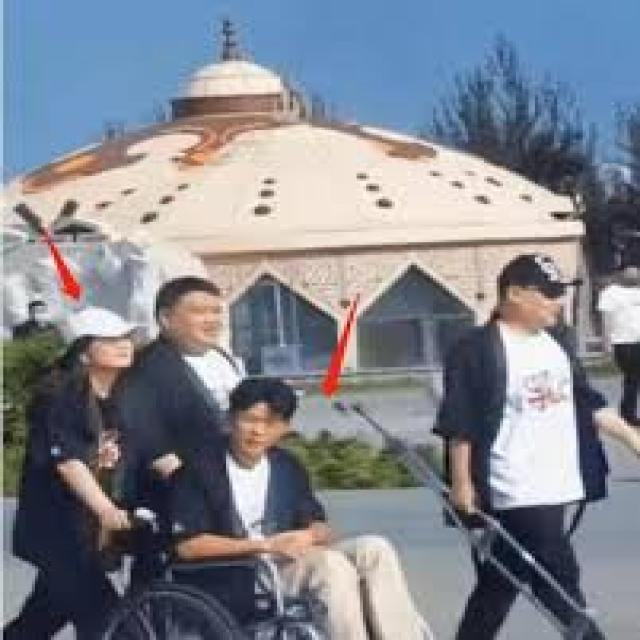wheelchairs: (86, 452, 427, 638)
